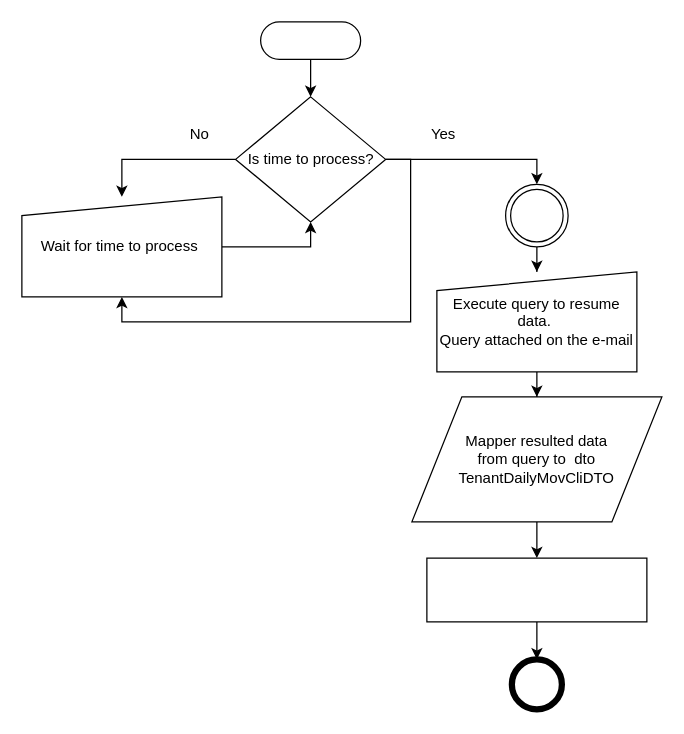
Some shapes in this 684 by 734 pixel diagram are drawn without their labels. Here are the shapes that lost their labels. From the top down, the centre of each, then its label:
At point (536, 215): "Thread".
At point (536, 589): "Send data to API vm-metrics-api".
